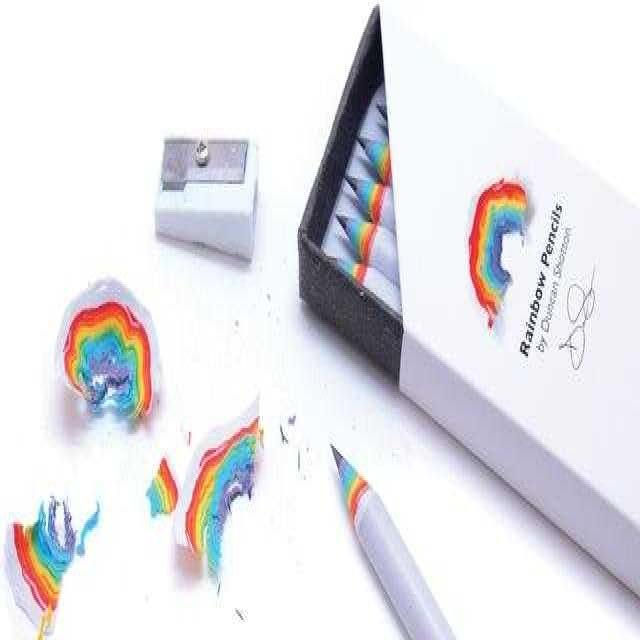pencil: (299, 0, 639, 603), (319, 420, 477, 638), (329, 204, 410, 287), (340, 172, 420, 242)
